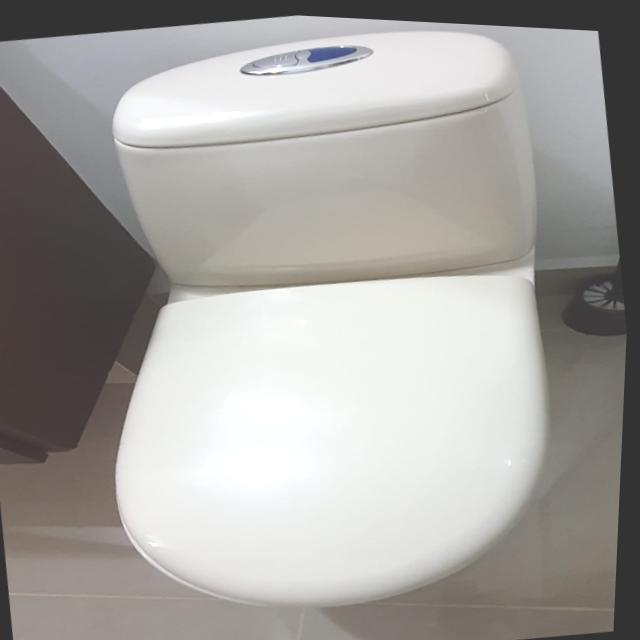toilet: (52, 3, 599, 640)
